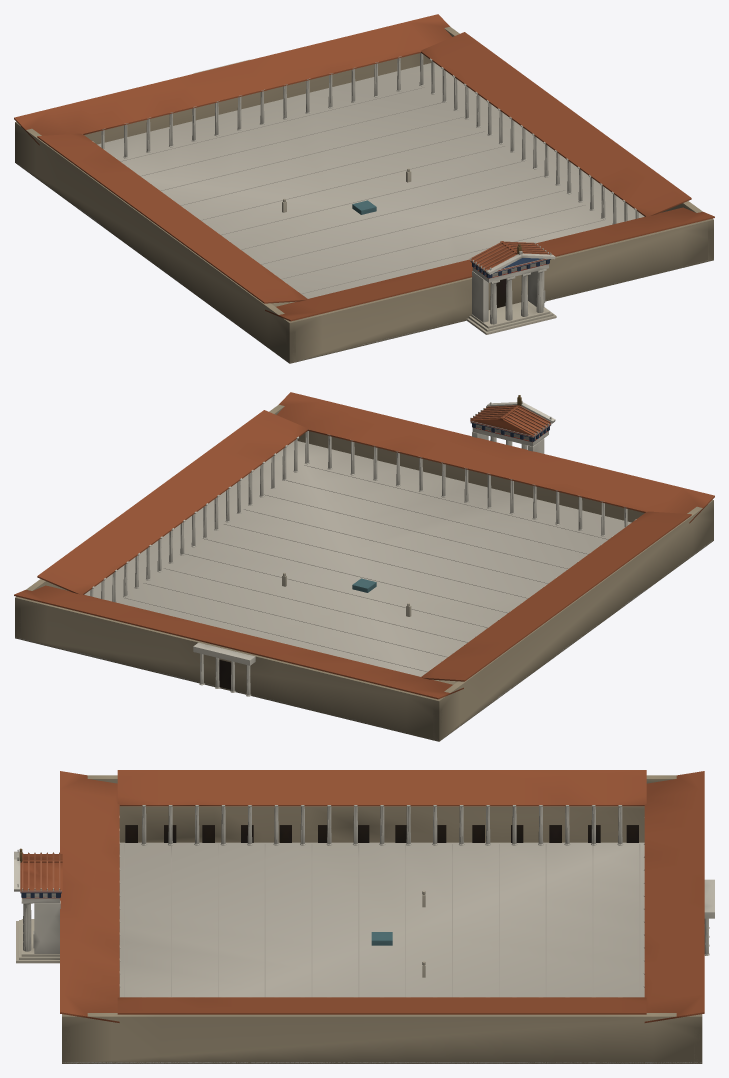
Rendered from roman-agora.glb.
The picture shows the model from 3 angles, top to bottom: view 1: azimuth 30°, elevation 25°; view 2: azimuth 150°, elevation 25°; view 3: azimuth 270°, elevation 25°; orthographic projection. The views are drawn at different scales.
Visible parts, largest first — view 1: p0_court, p2_roofs, p3_gates, p1_colonnades; view 2: p0_court, p2_roofs, p3_gates, p1_colonnades; view 3: p0_court, p2_roofs, p3_gates, p1_colonnades.
Boxes of the visible parts, box(x1,y1,x2,y2) form: p0_court: box(15, 26, 713, 363); p2_roofs: box(14, 14, 714, 321); p3_gates: box(193, 59, 556, 334); p1_colonnades: box(92, 53, 638, 291); p0_court: box(15, 404, 713, 741); p2_roofs: box(14, 392, 714, 699); p3_gates: box(193, 395, 555, 696); p1_colonnades: box(90, 431, 636, 669); p0_court: box(62, 775, 702, 1063); p2_roofs: box(60, 770, 704, 1022); p3_gates: box(14, 848, 714, 977); p1_colonnades: box(119, 805, 644, 997).
Size of the model in its own units: 82.6 by 14.91 by 101.
